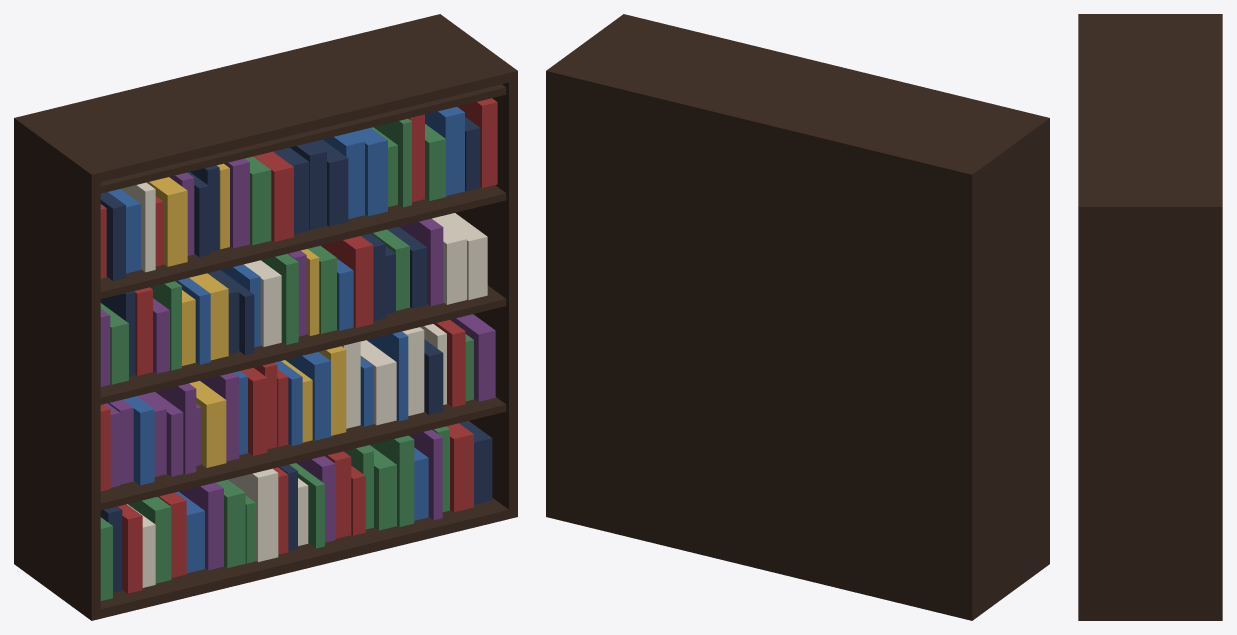
The model's file is bookcase.fbx.
The picture shows the model from 3 angles, left to right: view 1: azimuth 30°, elevation 25°; view 2: azimuth 150°, elevation 25°; view 3: azimuth 270°, elevation 25°; orthographic projection. The views are drawn at different scales.
Visible parts, largest first — view 1: bookcase; view 2: bookcase; view 3: bookcase.
Boxes of the visible parts, <box> form: bookcase: <box>14,14,517,620</box>; bookcase: <box>546,14,1049,620</box>; bookcase: <box>1078,14,1222,620</box>.
Bounding box in the file's own units: 1.9 × 1.9 × 0.6.
